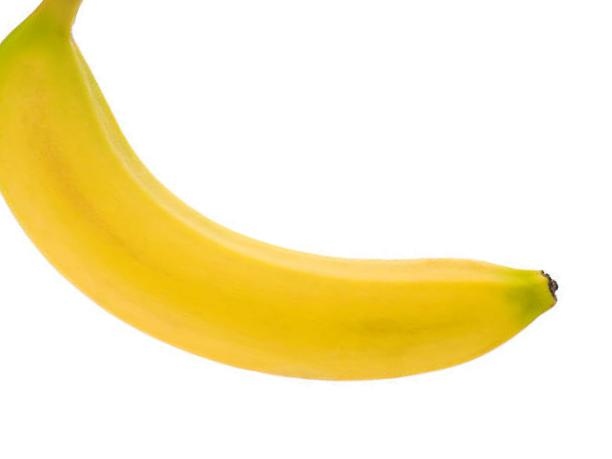banana: (1, 1, 557, 384)
